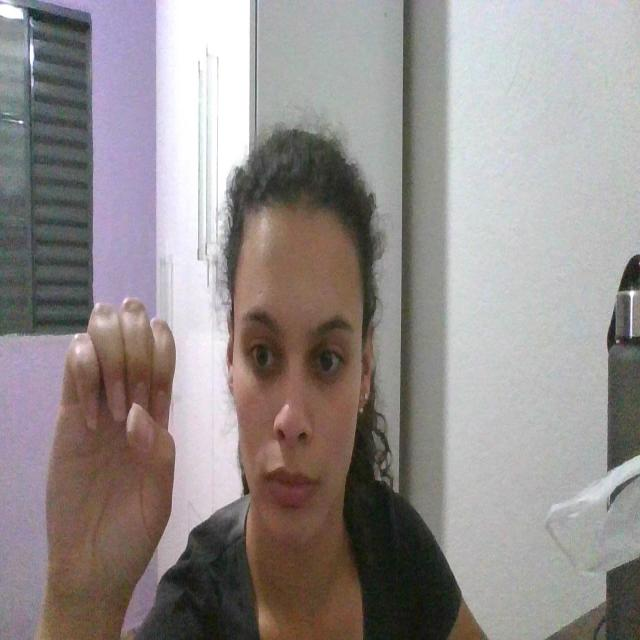E: (43, 284, 183, 588)
